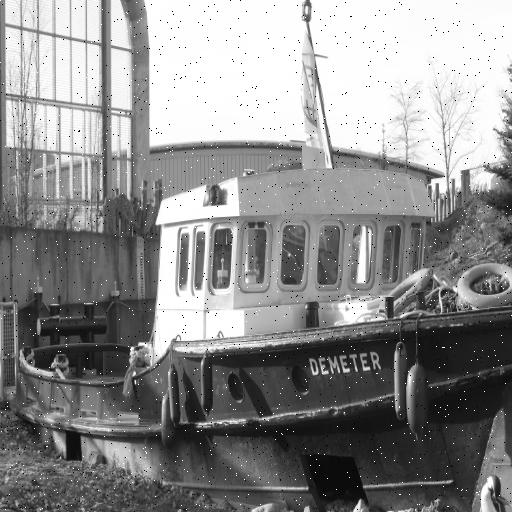tugboat: (7, 145, 512, 512)
